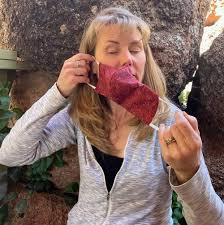Wore Mask Incorrectly: (74, 20, 188, 160)
